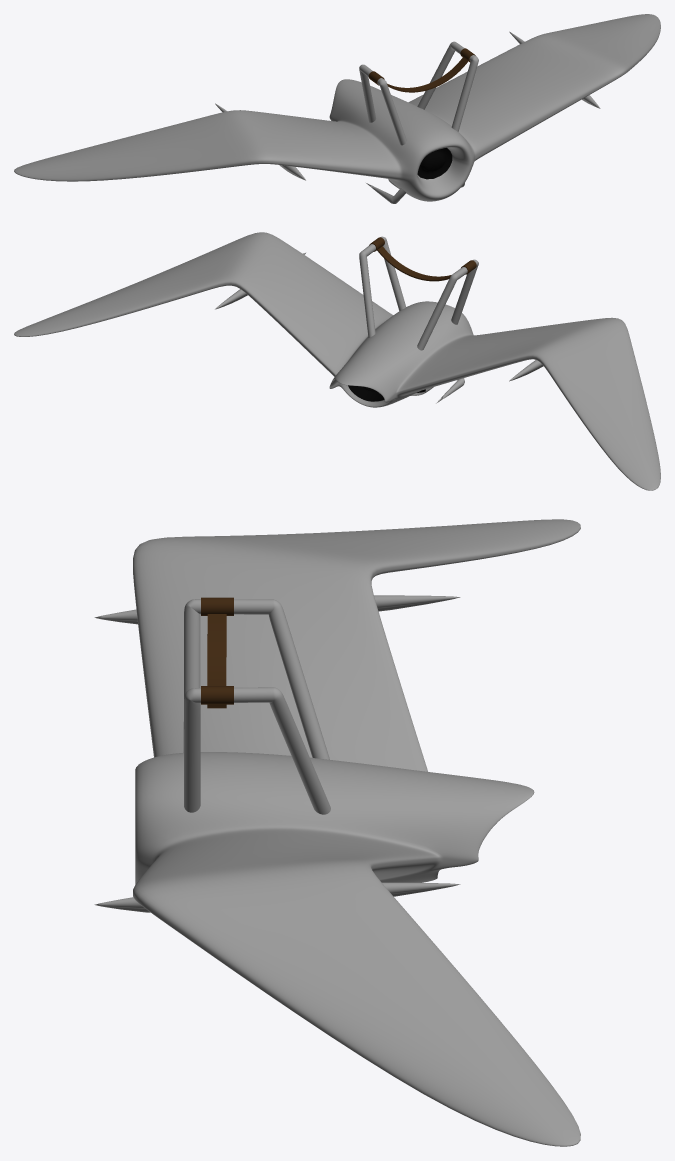
Rendered from Nawcica.FBX.
The picture shows the model from 3 angles, top to bottom: view 1: azimuth 30°, elevation 25°; view 2: azimuth 150°, elevation 25°; view 3: azimuth 270°, elevation 25°; orthographic projection. The views are drawn at different scales.
Parts seen in each view (by area): view 1: Cylinder001, Cylinder002, Object002, Box001; view 2: Cylinder001, Cylinder002, Box001; view 3: Cylinder001, Cylinder002, Box001, Cylinder004, Cylinder003.
Part boxes in pixels (x1,y1,x2,y2): Cylinder001: (14, 14, 660, 201); Cylinder002: (359, 41, 478, 145); Object002: (417, 148, 452, 179); Box001: (387, 57, 468, 92); Cylinder001: (14, 232, 660, 490); Cylinder002: (359, 236, 478, 350); Box001: (377, 246, 450, 281); Cylinder001: (133, 519, 580, 1146); Cylinder002: (183, 599, 330, 814); Box001: (207, 614, 226, 708); Cylinder004: (94, 595, 460, 624); Cylinder003: (94, 882, 460, 912).
Size of the model in its own units: 444 by 146 by 87.55.
